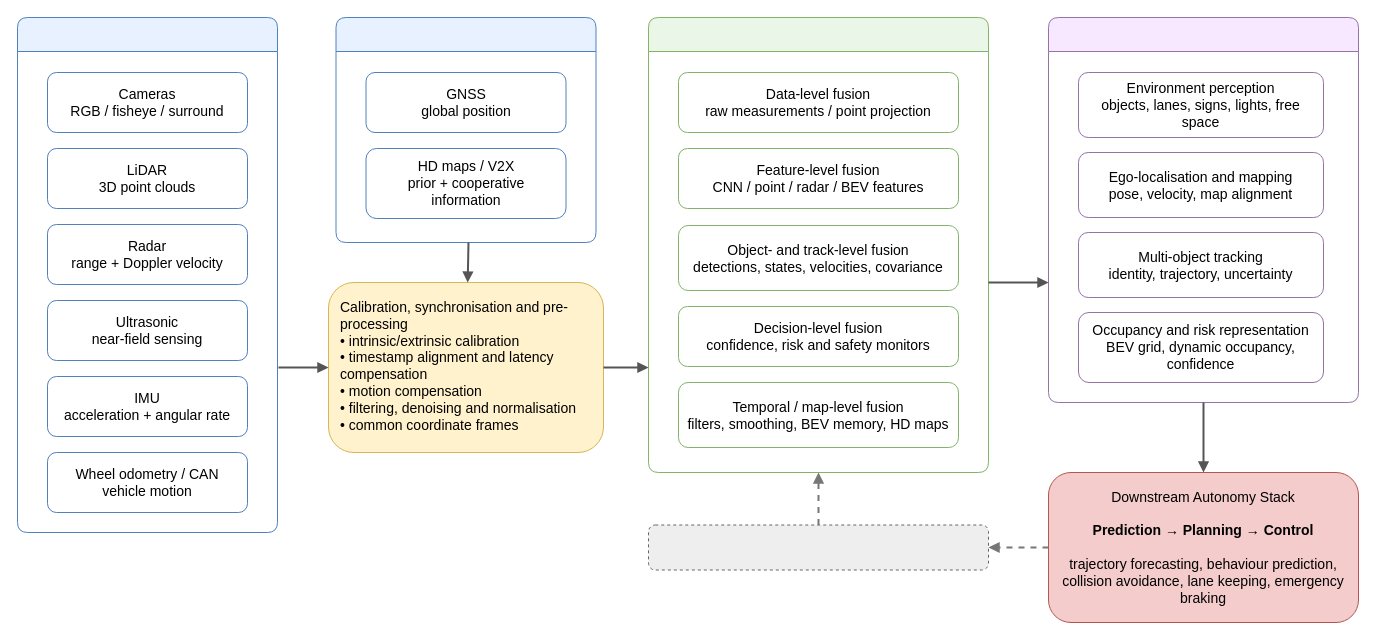
Some shapes in this 1376 by 640 pixel diagram are drawn without their labels. The box of each missing label's shape, as (x1, y1, x2, y2) in pixels:
Cooperative Sensing Suite: (335, 16, 596, 242)
Fused Representations: (1048, 16, 1358, 402)
Fusion Core: (648, 16, 988, 472)
sensor health, uncertainty, fallback modes: (648, 524, 988, 570)
Sensor Suite: (16, 16, 278, 532)
